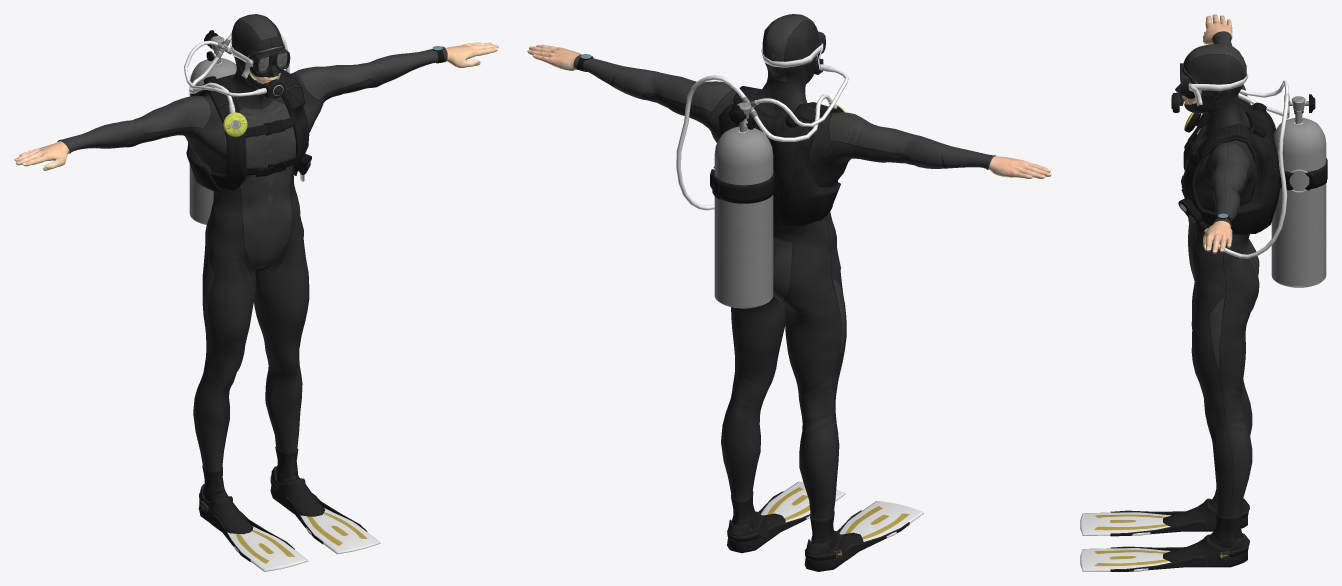
Rendered from diver.glb.
3 views of the same model, side by side, from view 1: azimuth 30°, elevation 25°; view 2: azimuth 150°, elevation 25°; view 3: azimuth 270°, elevation 25° (orthographic). The views are drawn at different scales.
Parts seen in each view (by area): view 1: Object_2, Object_4, Object_5, Object_6, Object_7, Object_9; view 2: Object_2, Object_6, Object_4, Object_5, Object_9; view 3: Object_2, Object_6, Object_4, Object_5, Object_9, Object_7.
Part boxes in pixels (box(x1,y1,x2,y2)): Object_2: box(14, 14, 498, 470); Object_4: box(198, 446, 380, 571); Object_5: box(186, 69, 309, 192); Object_6: box(189, 30, 444, 224); Object_7: box(230, 42, 290, 78); Object_9: box(184, 31, 304, 181); Object_2: box(527, 14, 1051, 519); Object_6: box(577, 54, 845, 308); Object_4: box(727, 481, 923, 571); Object_5: box(710, 86, 840, 227); Object_9: box(676, 68, 848, 210); Object_2: box(1182, 14, 1259, 517); Object_6: box(1178, 94, 1326, 287); Object_4: box(1080, 488, 1249, 571); Object_5: box(1181, 98, 1327, 235); Object_9: box(1204, 80, 1289, 258); Object_7: box(1175, 62, 1248, 105).
Size of the model in its own units: 1.79 by 1.75 by 0.7872.
Materials: 4 (3 with a texture image).
